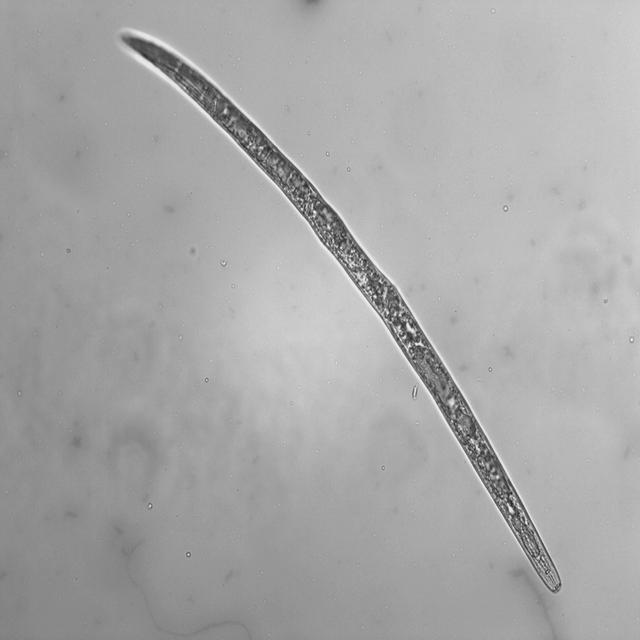Pratylenchus: (116, 26, 566, 603)
